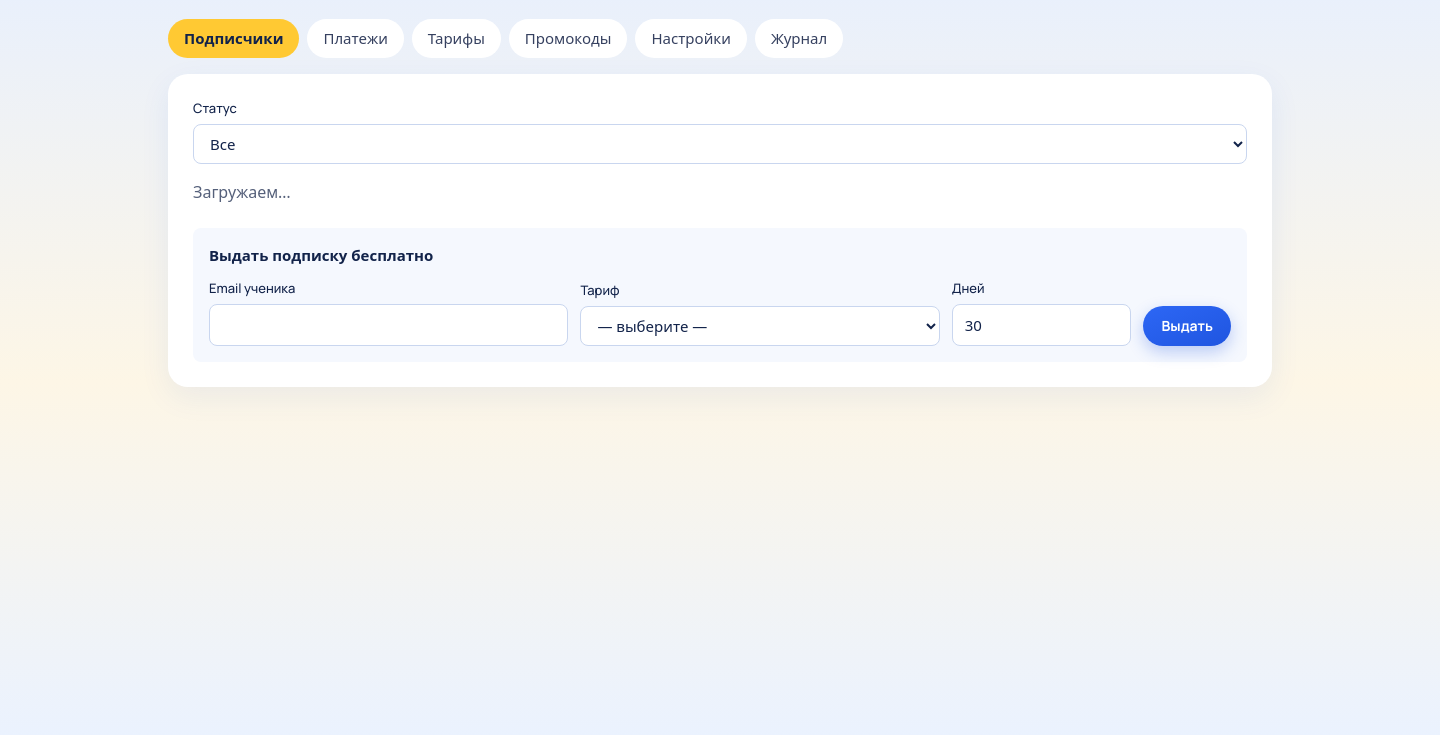
Scenario: админка подписки › промокоды: пачка случайных — черновик уходит в admin_promo_create, коды показаны для копирования
Click the tab "Промокоды".
click(568, 38)  # box [509,19,627,58]
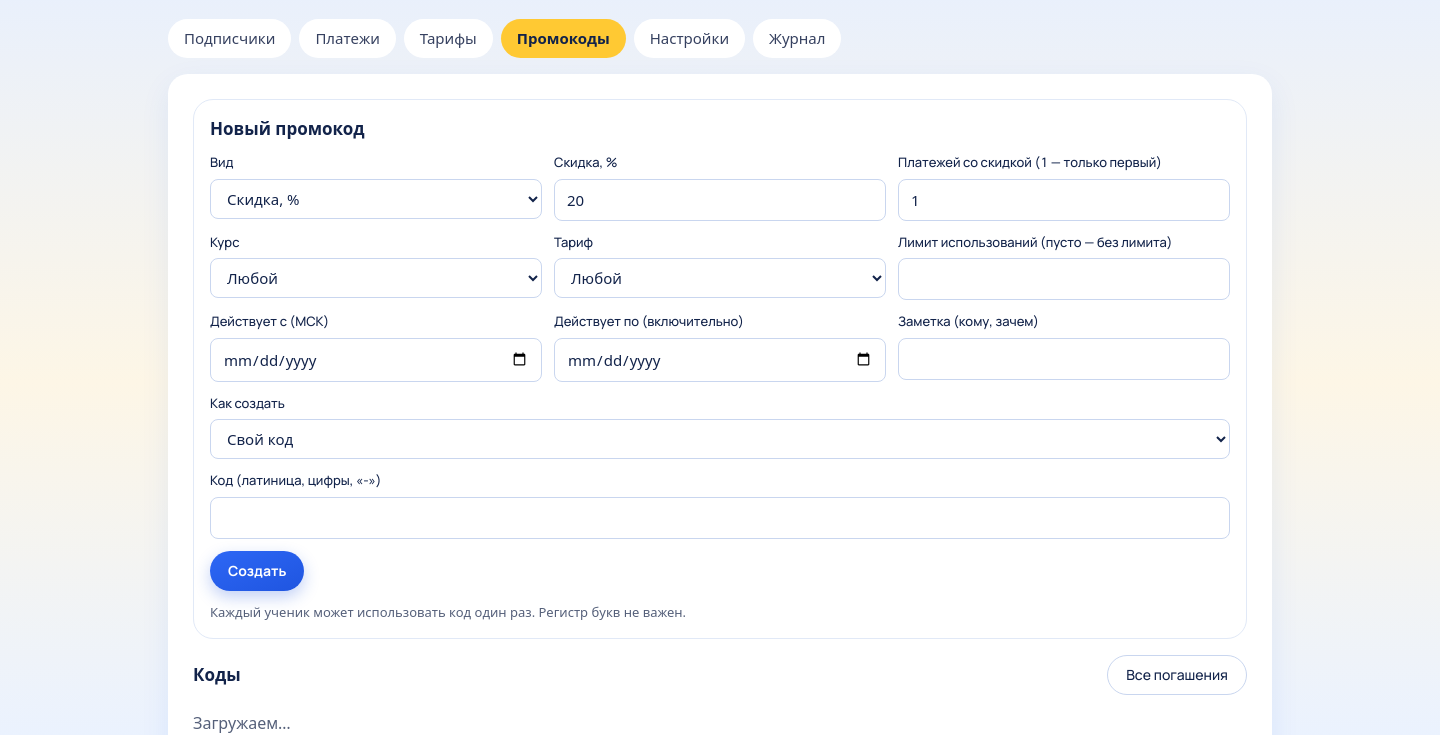
Select "Бесплатные месяцы" in the dropdown with test id "promo-kind" at (376, 198), box [210,178,542,218]
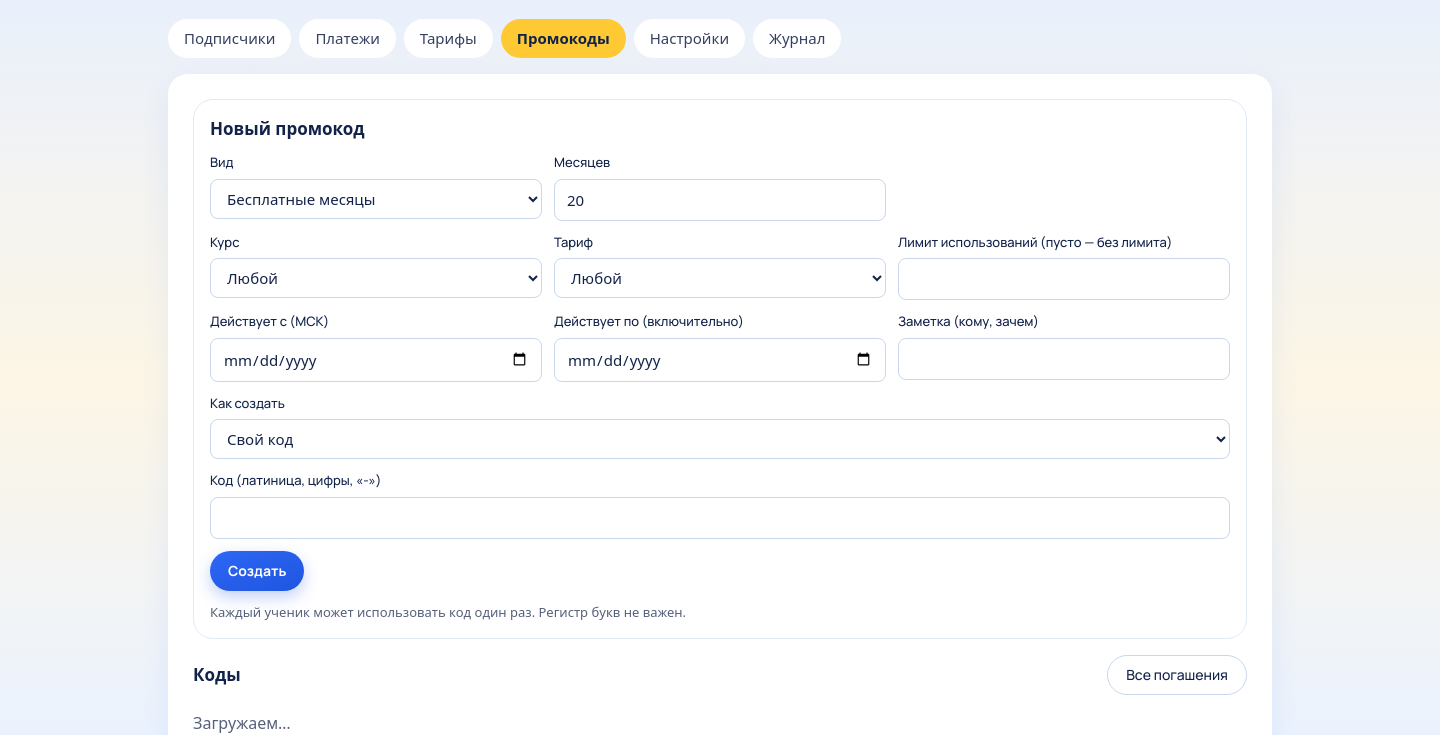
Replace the text in the field with test id "promo-value" with "3" at (720, 200), box [554,178,886,220]
Type "1" into the field with test id "promo-max".
click(1064, 279); type("1")  # box [898,258,1230,300]
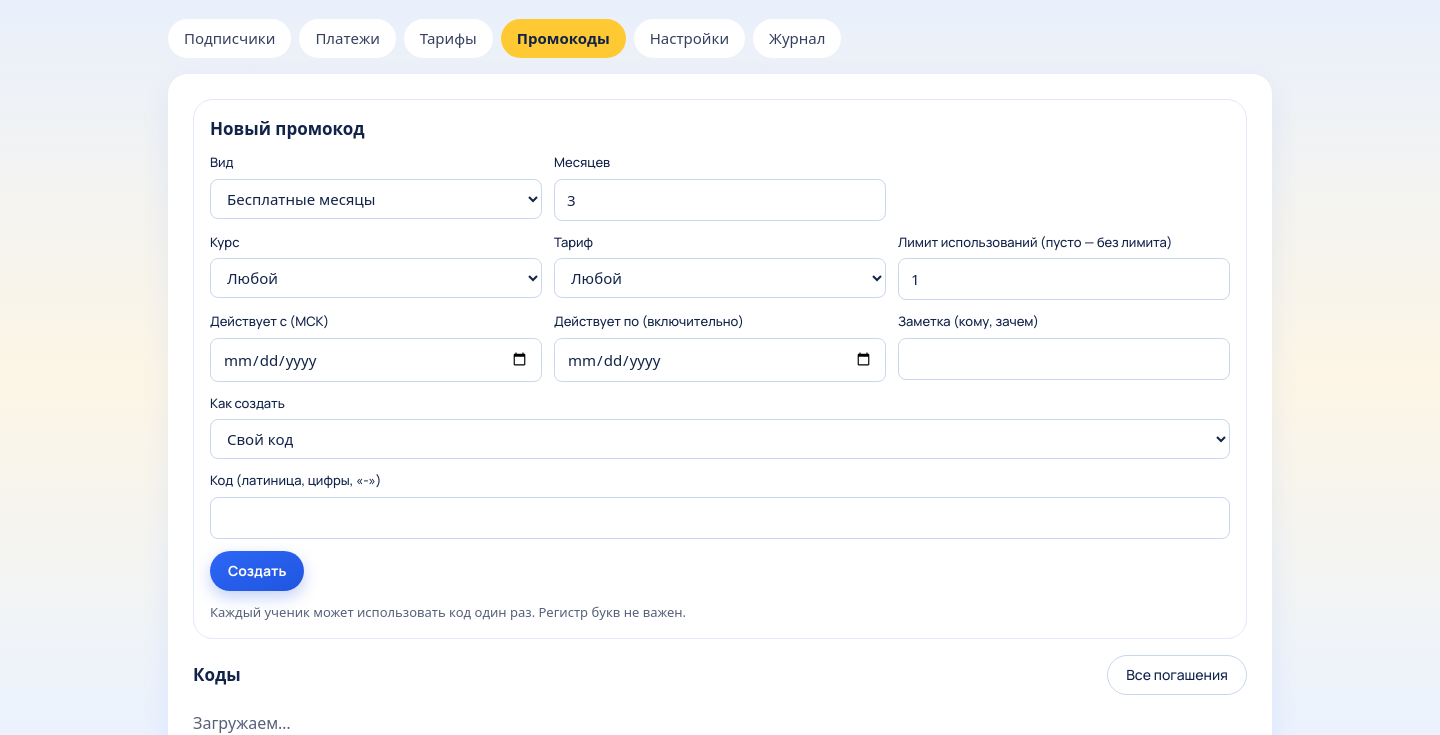
Select "Пачка случайных" in the dropdown with test id "promo-how" at (720, 439), box [210,419,1230,459]
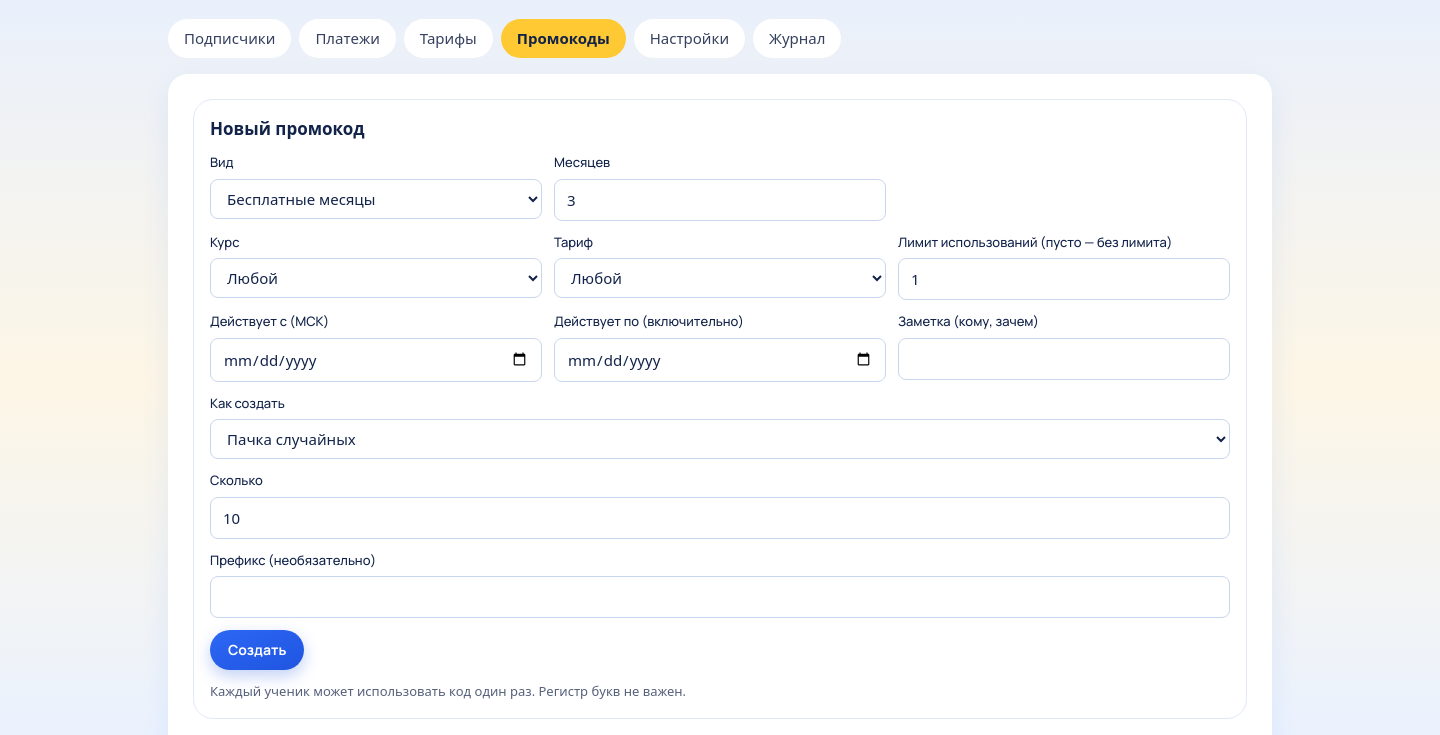
Replace the text in the field with test id "promo-count" with "2" at (720, 518), box [210,496,1230,538]
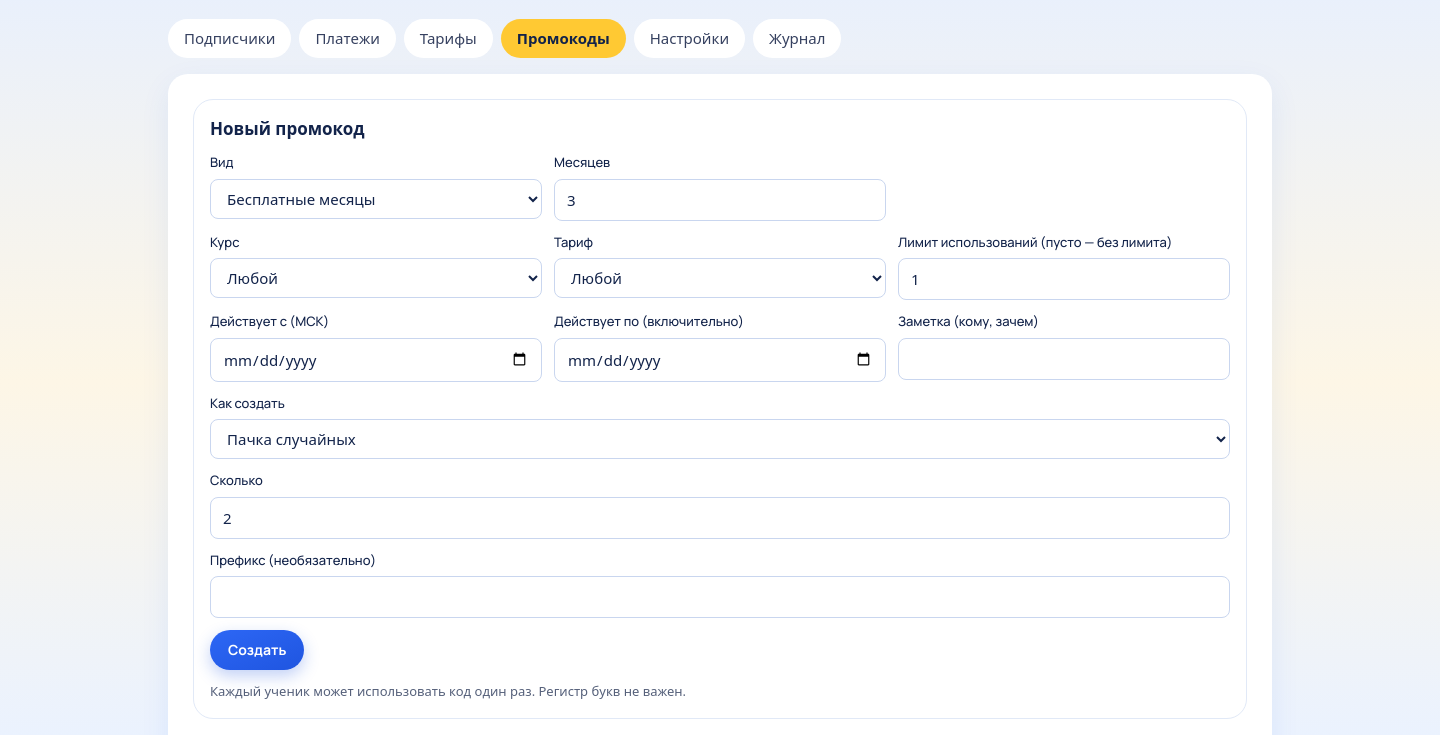
Click the button with test id "promo-create".
click(257, 650)  # box [210,630,304,670]
(page scrolled)
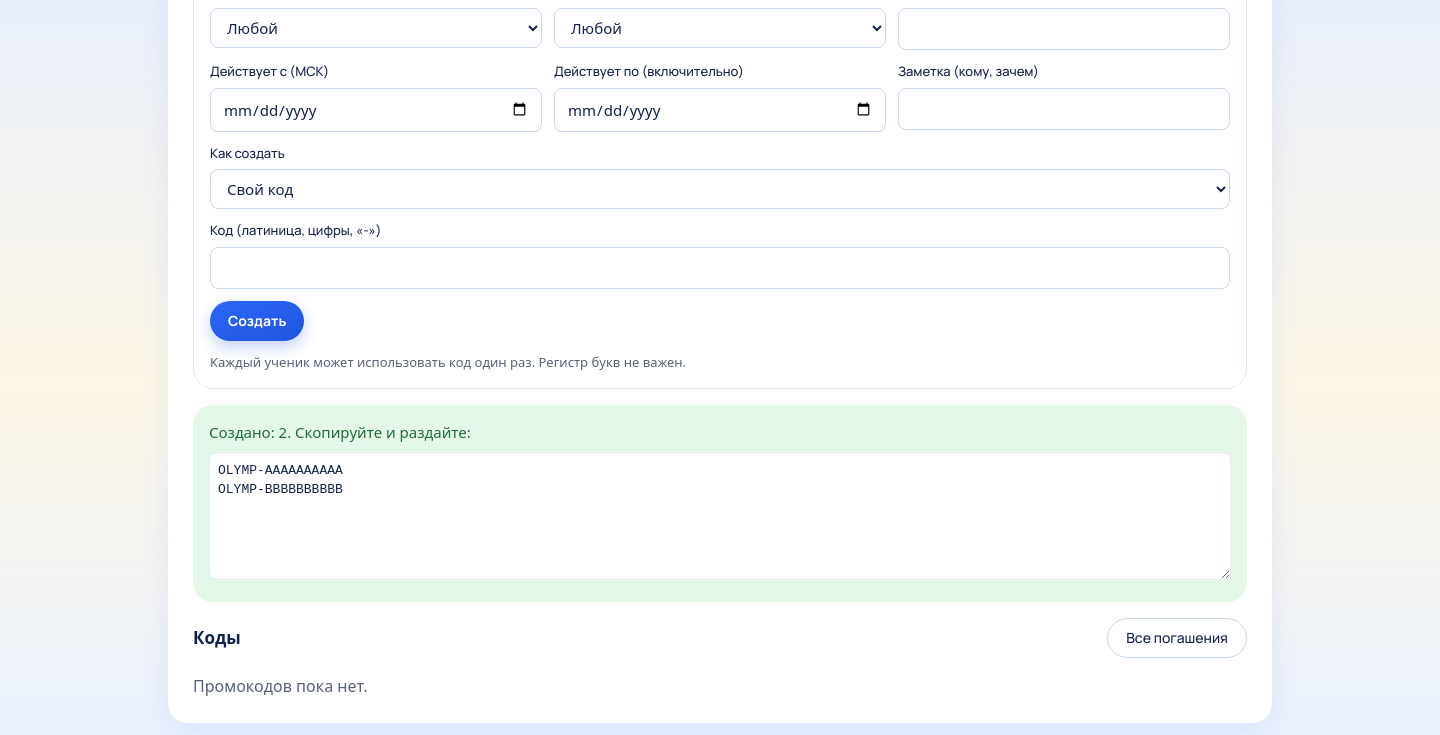
Result: the element with test id "promo-created" shows "Создано: 2" at [193,405,1247,602]
